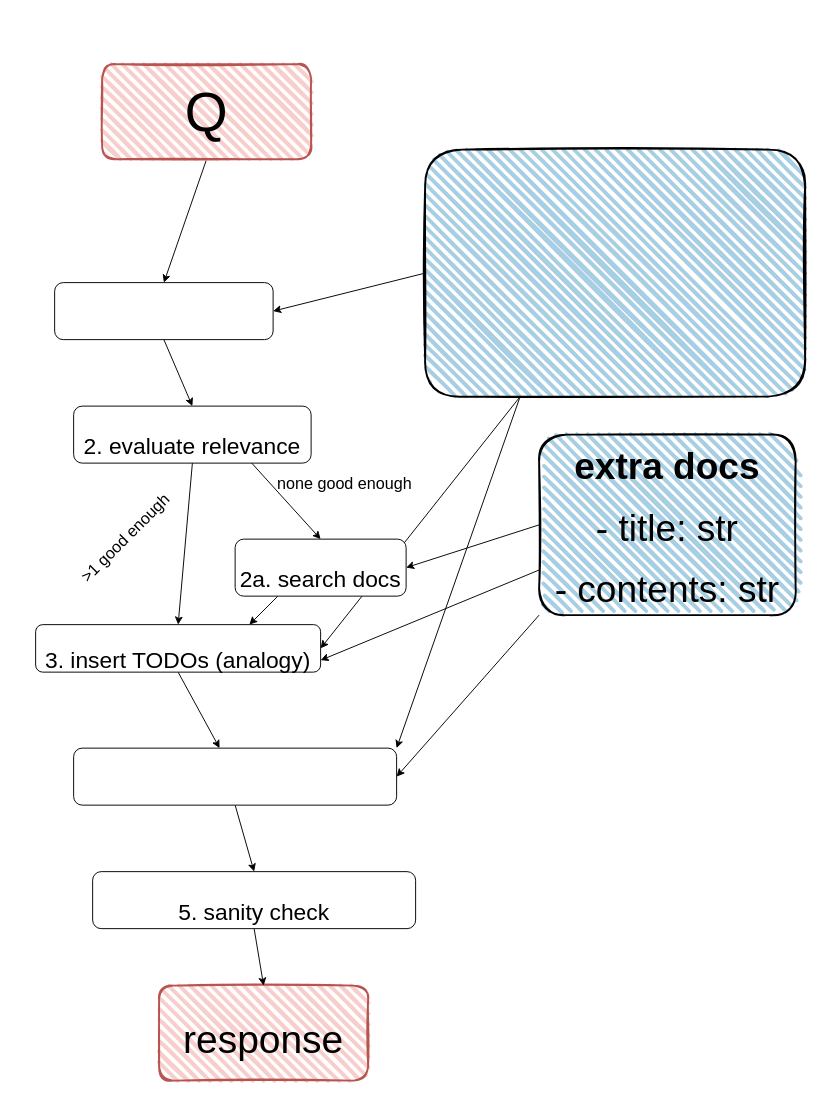
Image size: 840x1115. Some labels were removed from this diagram. The centre of each missing label's shape, as x and y in pixels:
"1. search memory" belongs at (163,311).
"4. iteratively remove TODOs" belongs at (235,776).
"procedural memory - input: str - output: str -steps: list[str]" belongs at (615,272).
